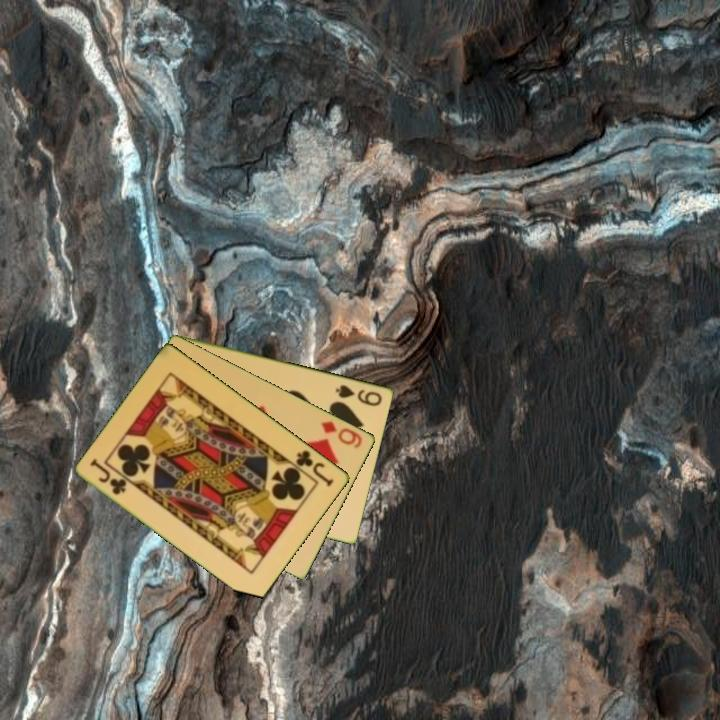6d: (317, 417, 365, 451)
9s: (332, 381, 385, 409)
Jc: (292, 446, 337, 489), (87, 455, 130, 498)
